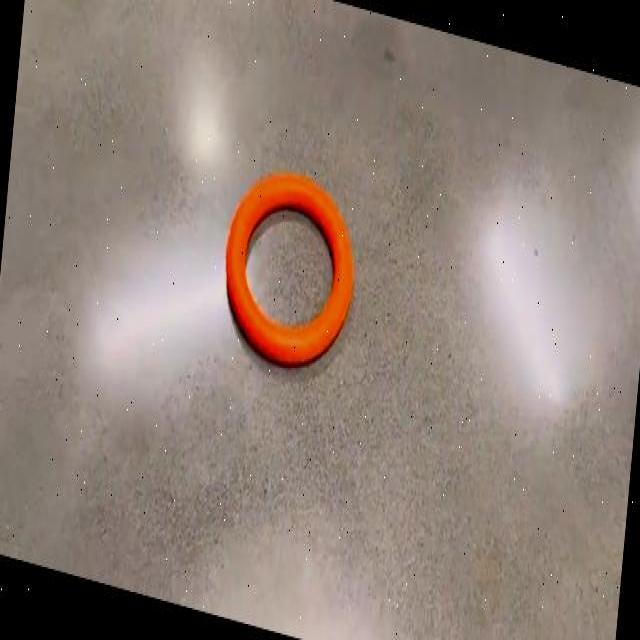note: (226, 172, 354, 363)
